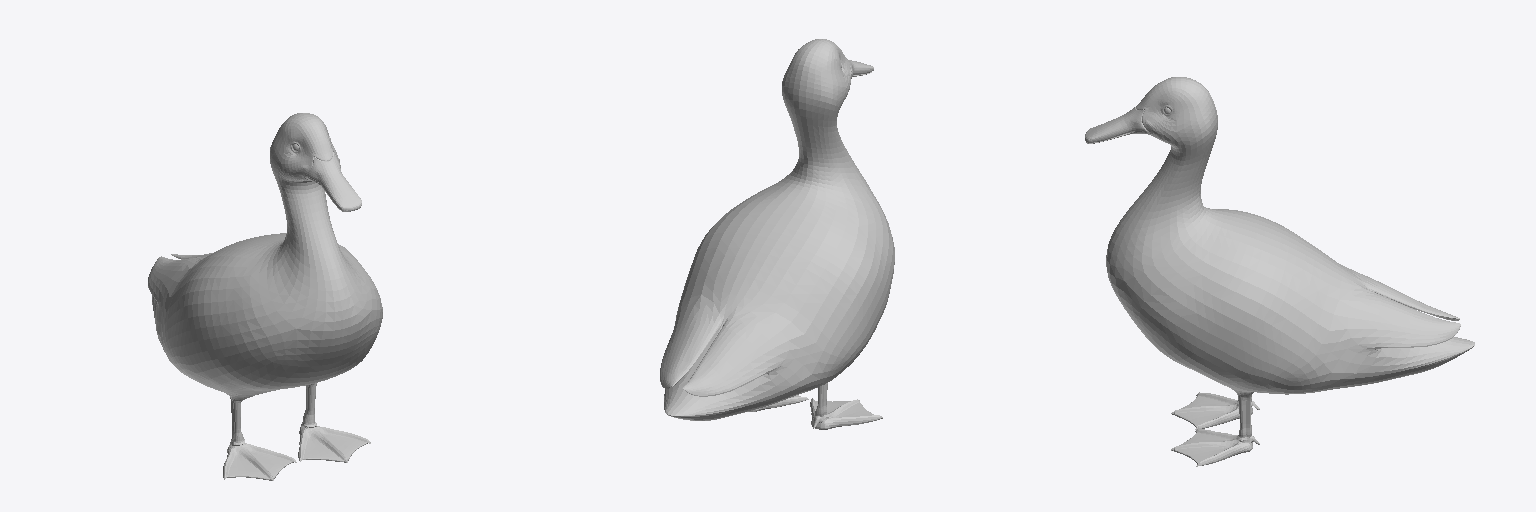
The model's file is Bird.obj.
3 views of the same model, side by side, from view 1: azimuth 30°, elevation 25°; view 2: azimuth 150°, elevation 25°; view 3: azimuth 270°, elevation 25° (orthographic).
Parts seen in each view (by area): view 1: 12248_Bird_v1_L2; view 2: 12248_Bird_v1_L2; view 3: 12248_Bird_v1_L2.
Part boxes in pixels (x1,y1,x2,y2): 12248_Bird_v1_L2: (148,113,382,480); 12248_Bird_v1_L2: (660,39,894,429); 12248_Bird_v1_L2: (1085,77,1474,466).
Bounding box in the file's own units: 0.5007 × 0.9936 × 0.9943.